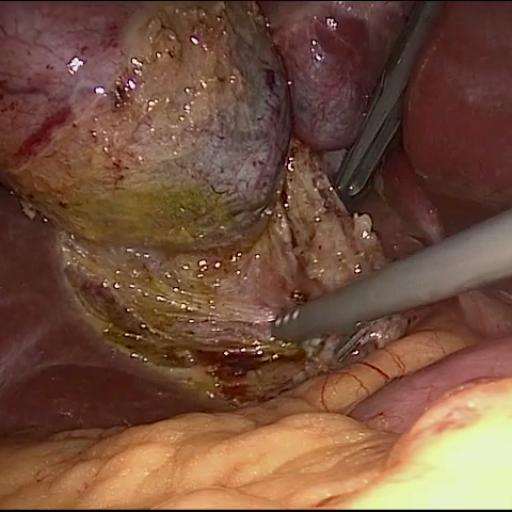Grasper: (300, 0, 468, 237)
Hook: (253, 288, 376, 367)
